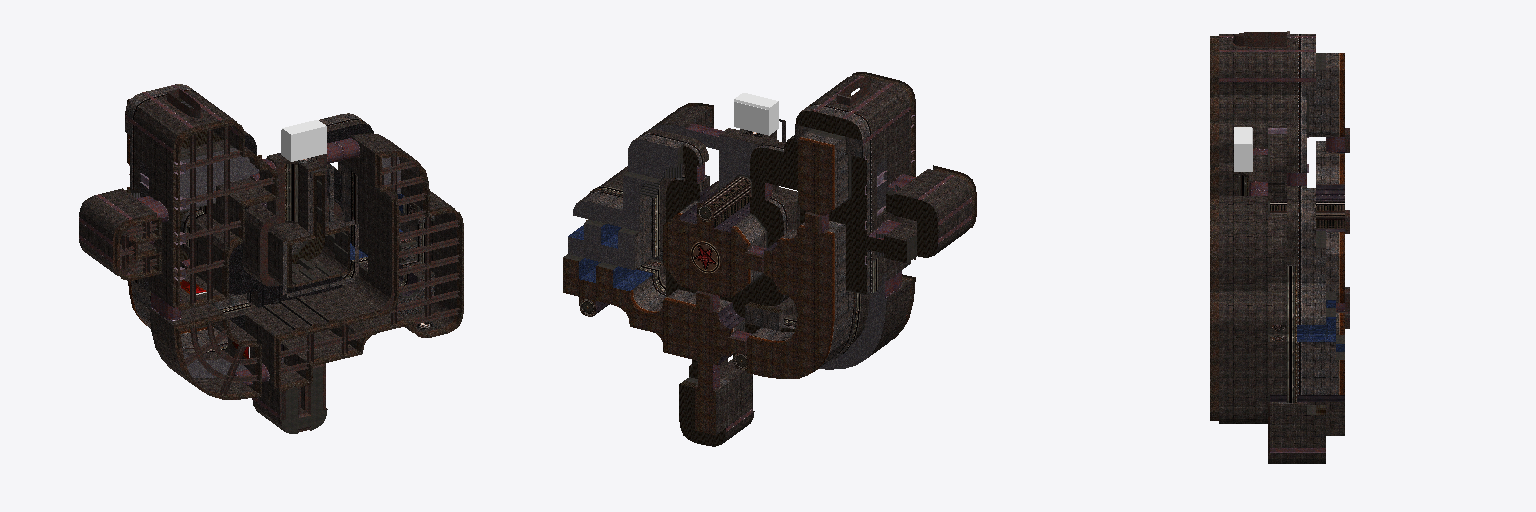
3 views of the same model, side by side, from view 1: azimuth 30°, elevation 25°; view 2: azimuth 150°, elevation 25°; view 3: azimuth 270°, elevation 25° (orthographic).
Parts seen in each view (by area): view 1: BSP_Object.model_0, BSP_Object.model_97; view 2: BSP_Object.model_0, BSP_Object.model_217; view 3: BSP_Object.model_0, BSP_Object.model_217.
Boxes of the visible parts, x1=… form: BSP_Object.model_0: x1=79, y1=84, x2=463, y2=433; BSP_Object.model_97: x1=175, y1=177, x2=274, y2=206; BSP_Object.model_0: x1=563, y1=72, x2=976, y2=446; BSP_Object.model_217: x1=701, y1=177, x2=750, y2=214; BSP_Object.model_0: x1=1210, y1=31, x2=1349, y2=463; BSP_Object.model_217: x1=1270, y1=201, x2=1344, y2=214.
Bounding box in the file's own units: 2648 × 2656 × 928.
Materials: 33 (32 with a texture image).